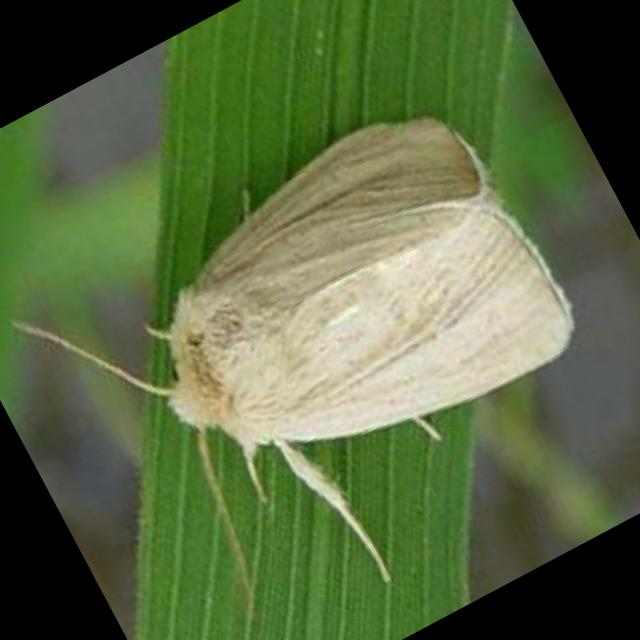stem-borer: (36, 69, 630, 625)
